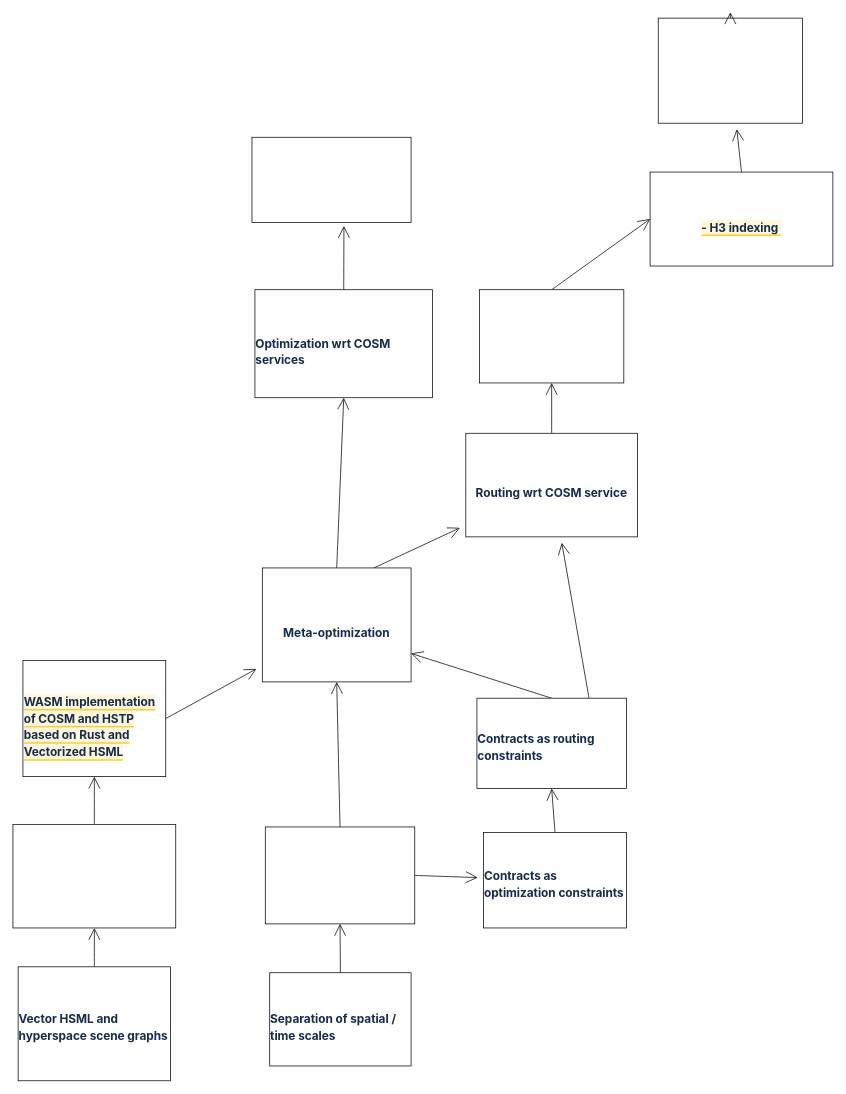
Some shapes in this 846 by 1094 pixel diagram are drawn without their labels. The box of each missing label's shape, as (x1, y1, x2, y2) in pixels:
Hyperspace query functionality, contract parsing, on edge devices such as drones: (479, 289, 624, 383)
Inference wrt COSM services: (251, 137, 411, 222)
Multi-objective optimization: (265, 826, 415, 924)
Sensor fusion: (12, 824, 176, 928)
Spatial(S)DNS: (657, 17, 803, 123)
